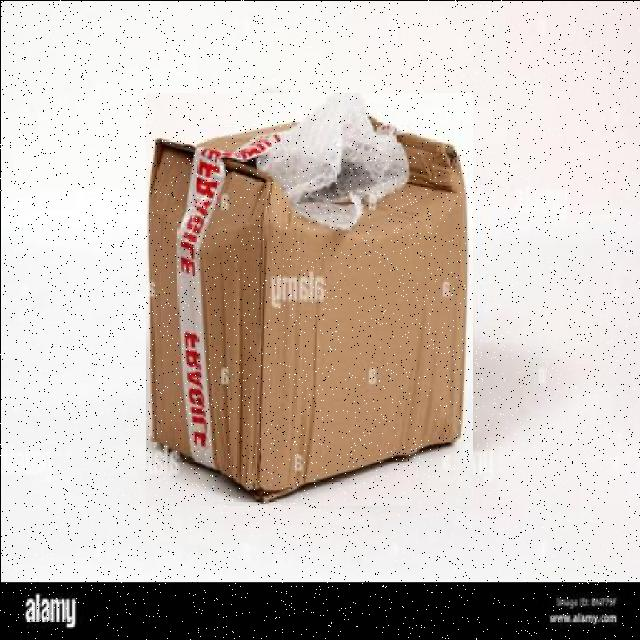defect: (145, 92, 472, 505)
